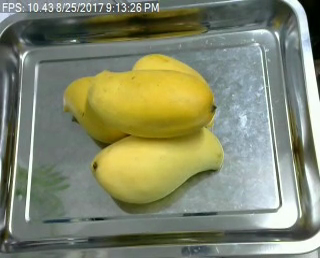Mango: (91, 120, 225, 207), (87, 70, 216, 138), (60, 73, 141, 141), (131, 51, 213, 104)
